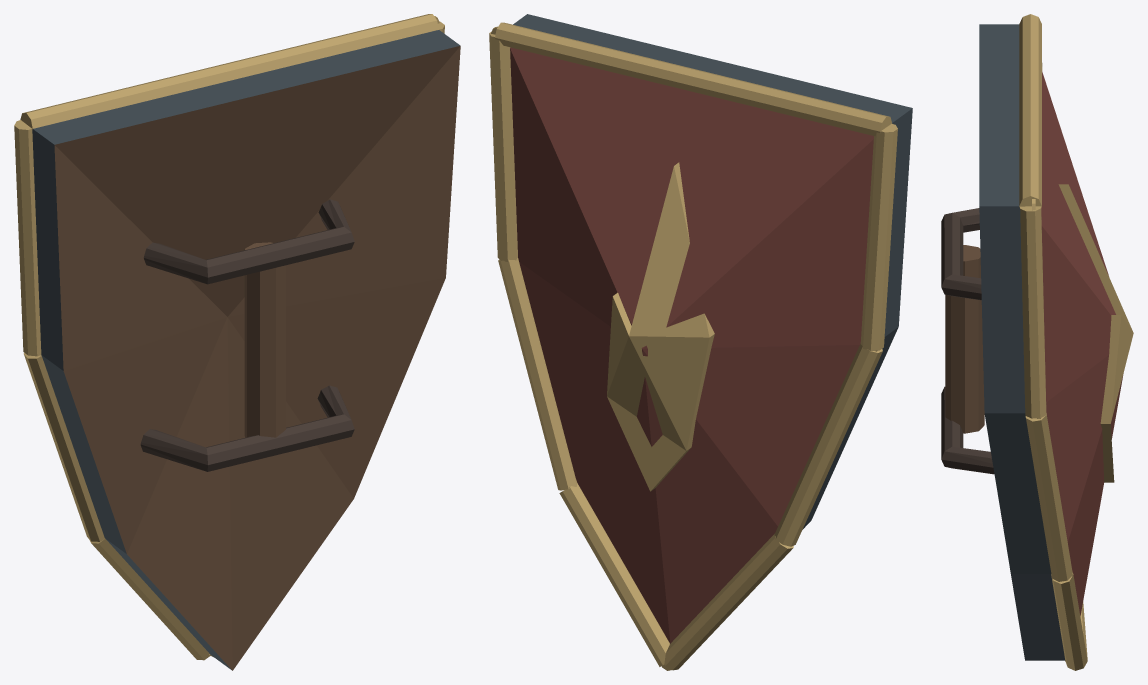
Rendered from AEW_Shield_HearthKite.fbx.
3 renders of one model, left to right at view 1: azimuth 30°, elevation 25°; view 2: azimuth 150°, elevation 25°; view 3: azimuth 270°, elevation 25°, orthographic. The views are drawn at different scales.
Visible parts, largest first — view 1: AEW_Shield_HearthKite; view 2: AEW_Shield_HearthKite; view 3: AEW_Shield_HearthKite.
Boxes of the visible parts, box(x1,y1,x2,y2) form: AEW_Shield_HearthKite: box(14, 14, 460, 670); AEW_Shield_HearthKite: box(489, 14, 912, 670); AEW_Shield_HearthKite: box(941, 14, 1133, 670).
Size of the model in its own units: 0.7132 by 0.981 by 0.3038.
